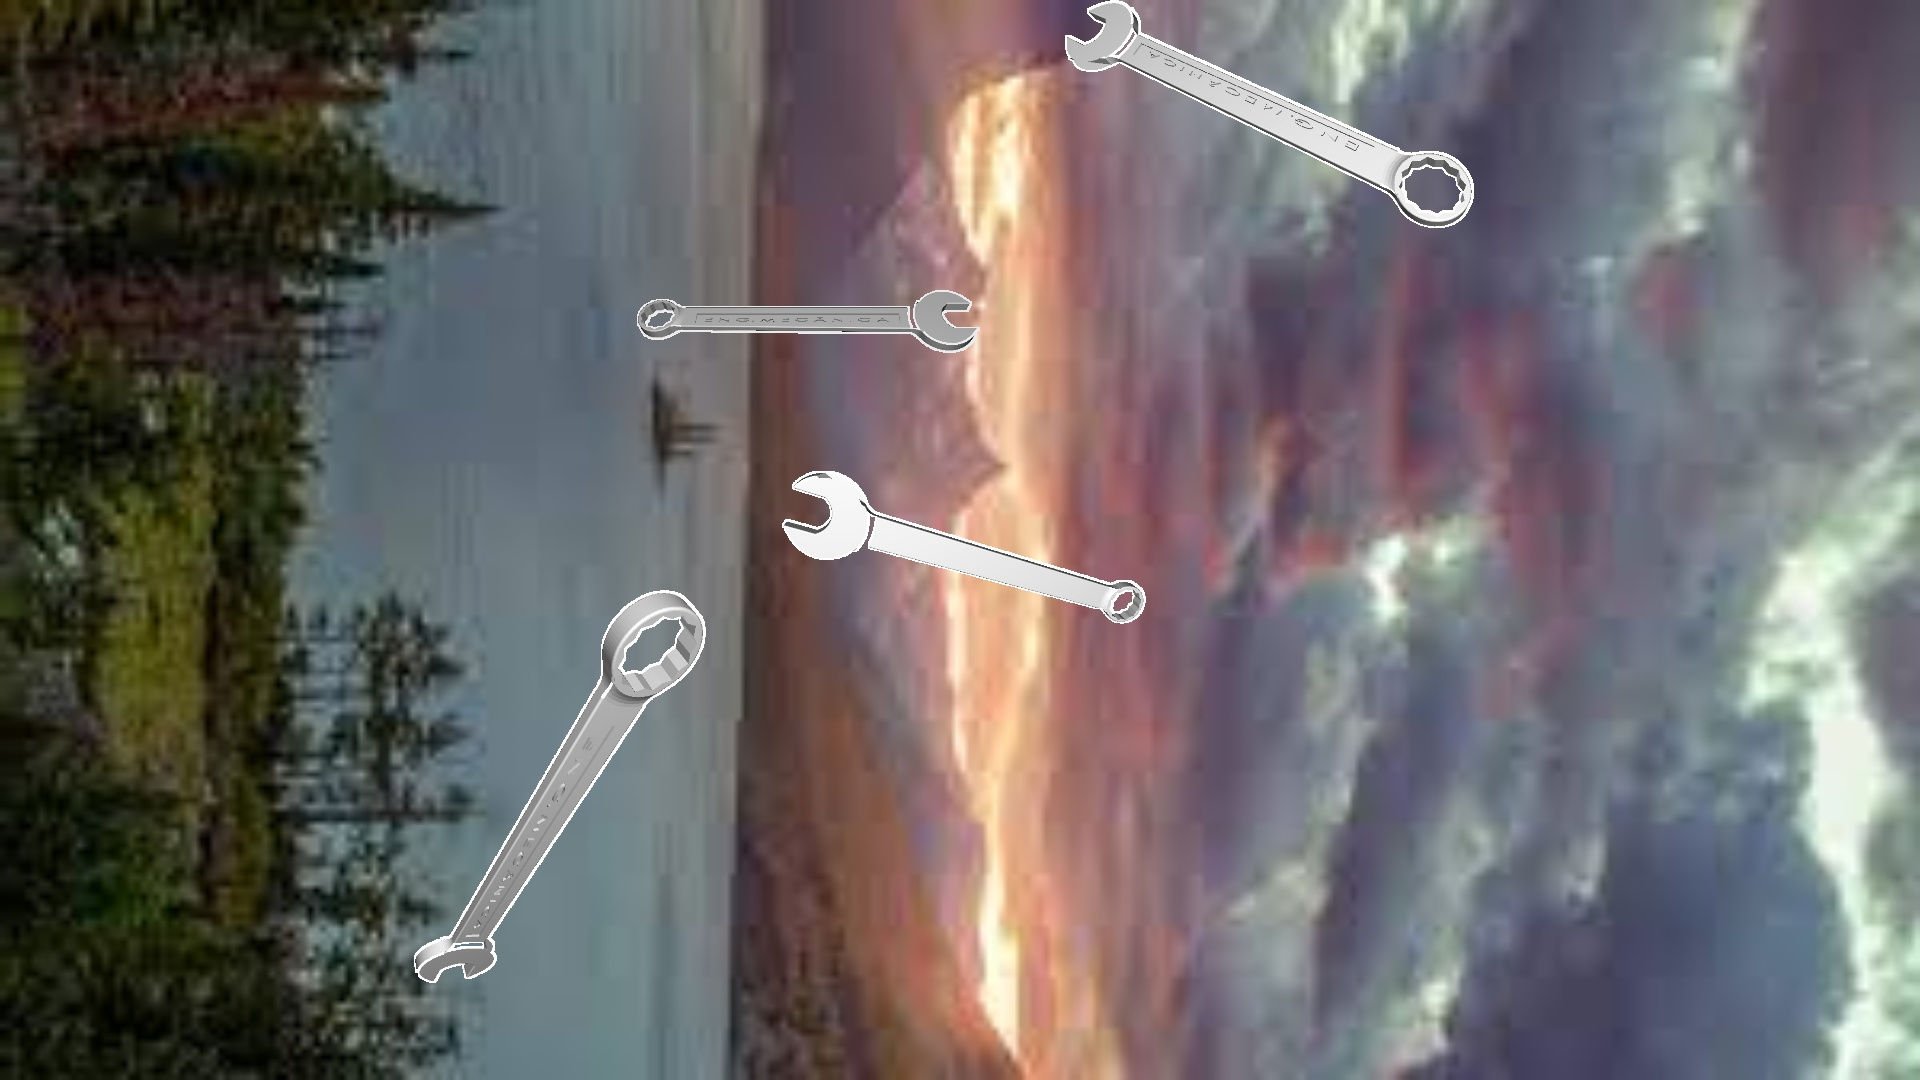Mixed Key: (414, 589, 705, 982), (1065, 0, 1473, 227), (782, 471, 1145, 622), (637, 290, 978, 352)
